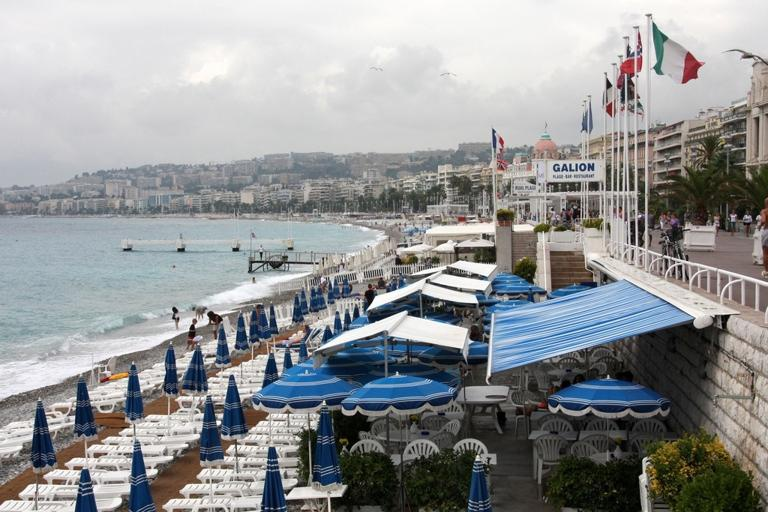non-vehicle: (658, 225, 690, 280), (629, 220, 651, 262)
